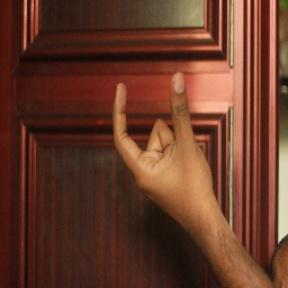U: (109, 67, 207, 192)
